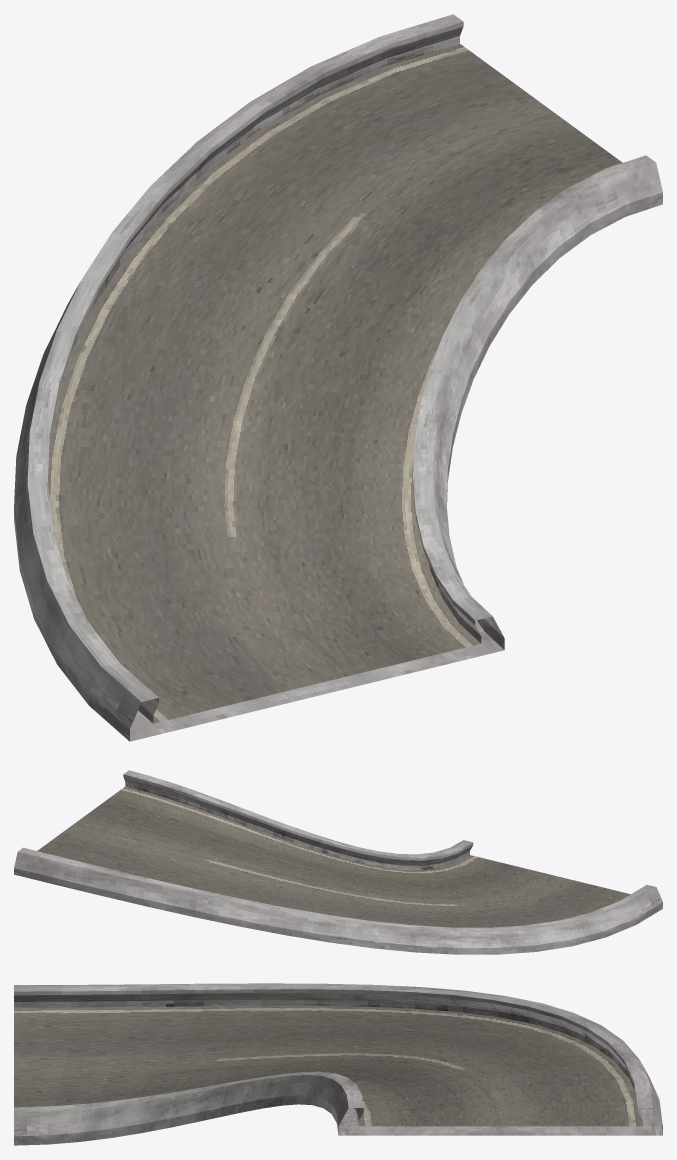
Rendered from turn-right2x2.glb.
The picture shows the model from 3 angles, top to bottom: view 1: azimuth 30°, elevation 25°; view 2: azimuth 150°, elevation 25°; view 3: azimuth 270°, elevation 25°; orthographic projection. The views are drawn at different scales.
Parts seen in each view (by area): view 1: road-Turn-Flat-Flat-Up2-Right-Size2; view 2: road-Turn-Flat-Flat-Up2-Right-Size2; view 3: road-Turn-Flat-Flat-Up2-Right-Size2.
Boxes of the visible parts, x1=… form: road-Turn-Flat-Flat-Up2-Right-Size2: x1=14, y1=14, x2=662, y2=741; road-Turn-Flat-Flat-Up2-Right-Size2: x1=14, y1=770, x2=662, y2=954; road-Turn-Flat-Flat-Up2-Right-Size2: x1=14, y1=983, x2=662, y2=1145.
Bounding box in the file's own units: 2 × 0.5938 × 2.
Materials: 2 (2 with a texture image).
